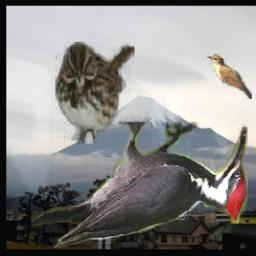Cuckoo: (208, 55, 253, 100)
Sparrow: (55, 43, 135, 145)
Woodpecker: (32, 122, 249, 247)
